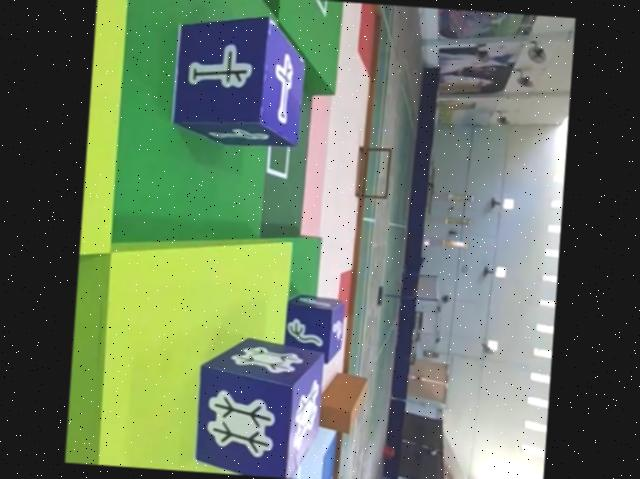R2 Real Blue: (191, 334, 325, 479), (166, 12, 306, 149), (282, 294, 348, 365)
